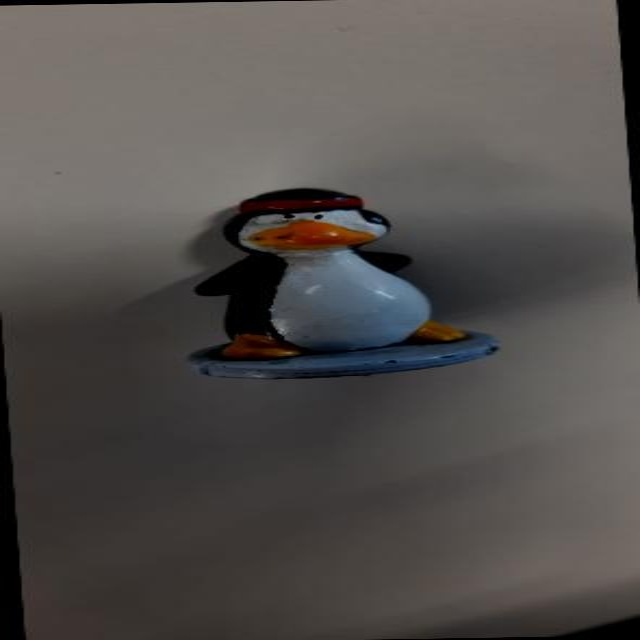Penguin: (165, 179, 505, 385)
